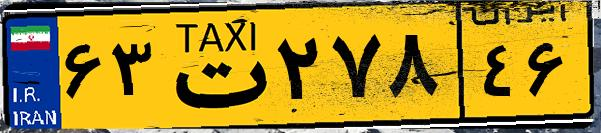2: (270, 28, 330, 110)
3: (110, 28, 158, 98)
4: (475, 38, 525, 113)
6: (57, 26, 110, 100), (525, 38, 570, 115)
7: (330, 28, 385, 110)
8: (385, 28, 445, 110)
ت: (158, 12, 270, 120)
